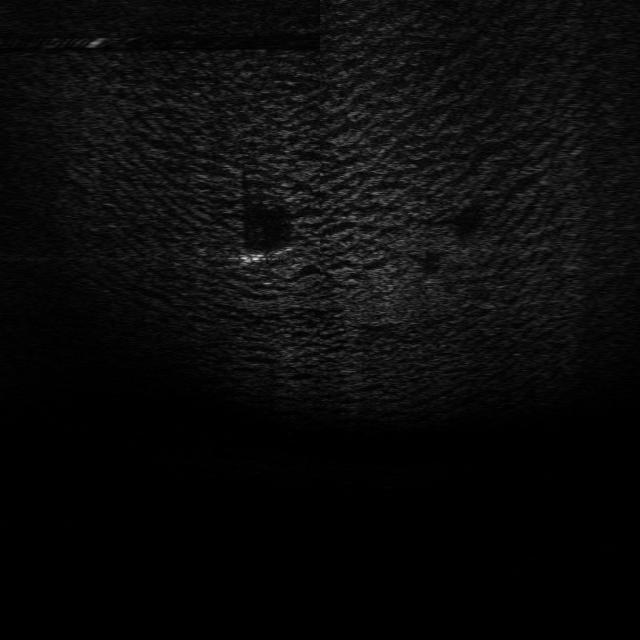plane: (233, 240, 299, 267)
